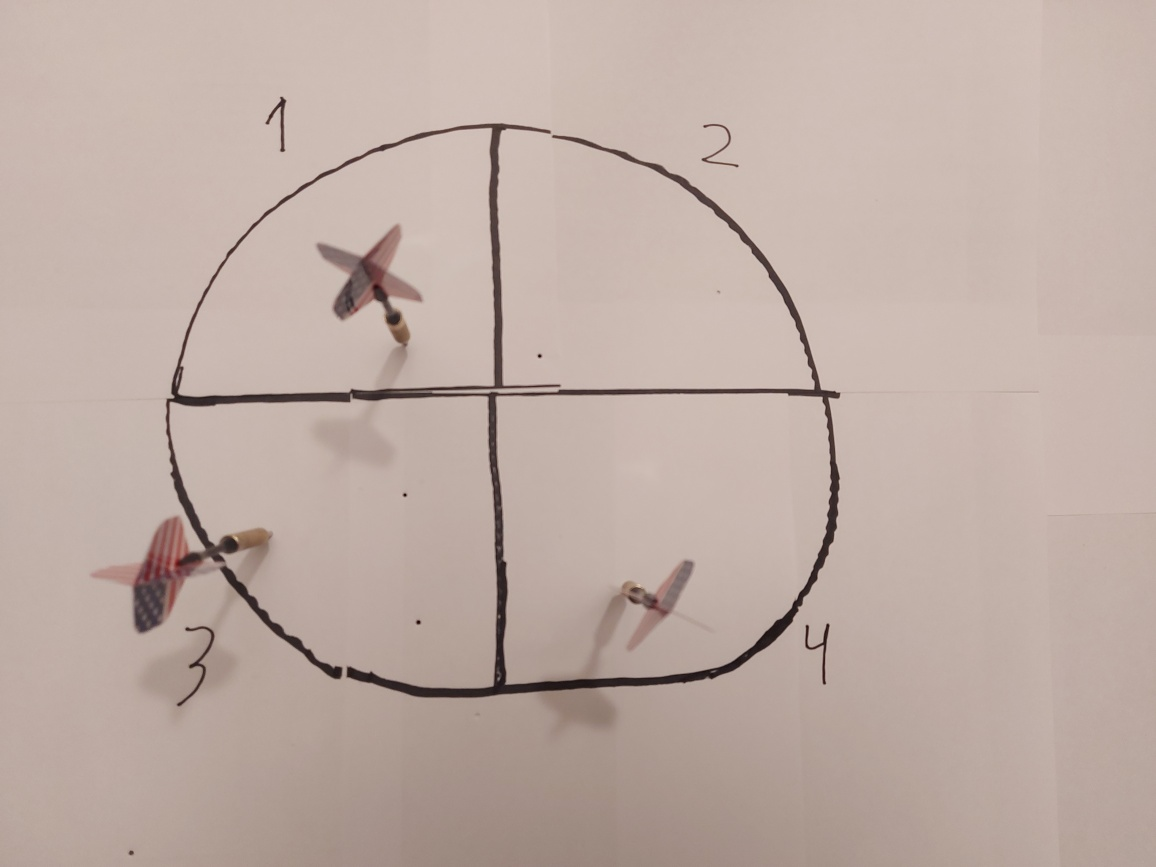Dart: (83, 506, 286, 639), (305, 216, 437, 371), (607, 552, 727, 656)
